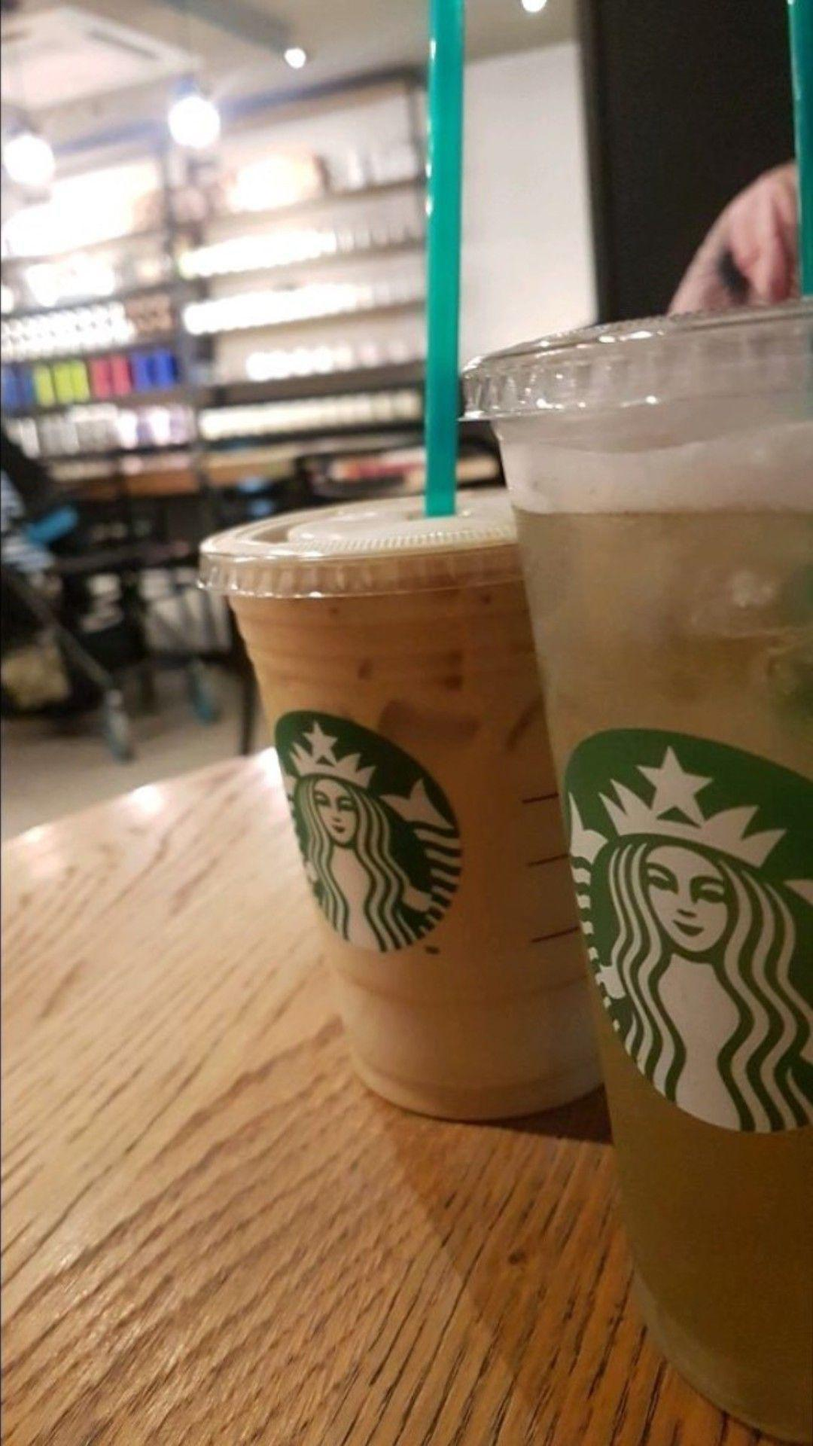cup-disposable: (459, 304, 812, 1441), (191, 489, 612, 1124)
